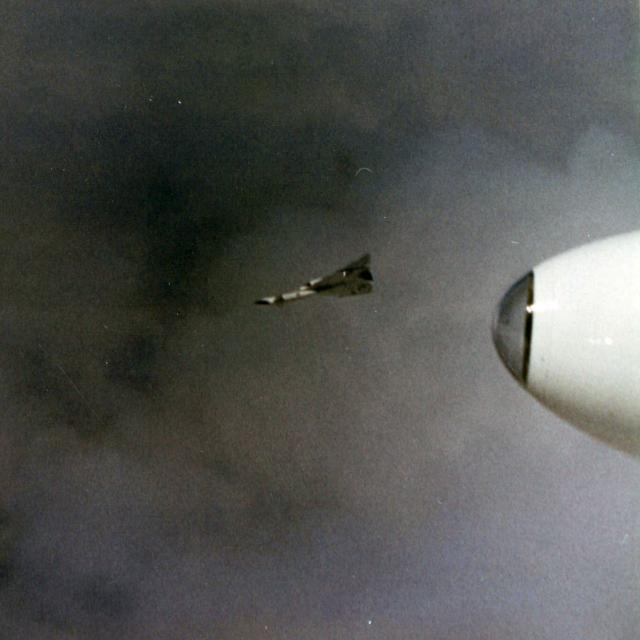MIL_Plane: (252, 252, 374, 307)
